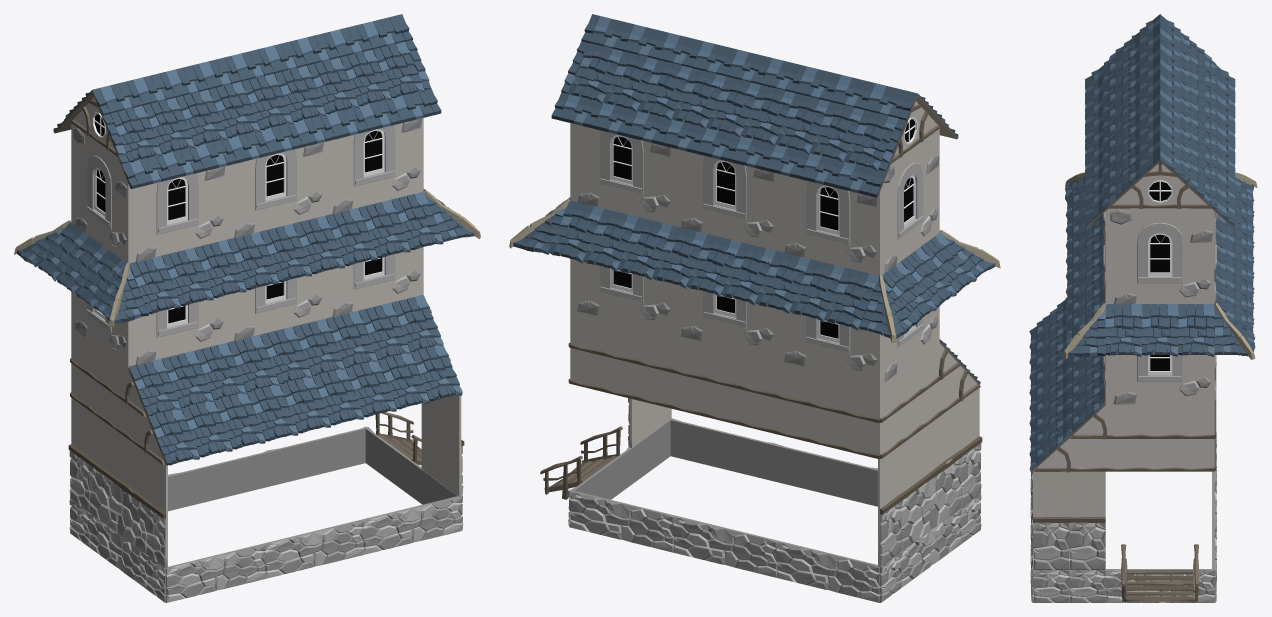
The model's file is HOUSE_18_PARTS.fbx.
3 renders of one model, left to right at view 1: azimuth 30°, elevation 25°; view 2: azimuth 150°, elevation 25°; view 3: azimuth 270°, elevation 25°, orthographic. The views are drawn at different scales.
Parts seen in each view (by area): view 1: WINDOW_07_11, WINDOW_07_12, WINDOW_07_13, WALL_01_14, WINDOW_07_18, WINDOW_07_6, WINDOW_07_5, WINDOW_07_4, FOUNDATION_01_2, FOUNDATION_01_4, FOUNDATION_01_3, FOUNDATION_01_7 (+78 smaller); view 2: WINDOW_07_17, WINDOW_07_16, WINDOW_07_15, WALL_01_14, WINDOW_07_18, WINDOW_07_8, WINDOW_07_7, WINDOW_07_9, FOUNDATION_01_8, FOUNDATION_01_7, FOUNDATION_01_6, FOUNDATION_01_3 (+79 smaller); view 3: WINDOW_07_14, WINDOW_07_10, WALL_04_21, WALL_04_22, STAIRS_01_2, FOUNDATION_01_5, ROOF_base_104, ROOF_base_105, ROOF_base_103, ROOF_CORNER_OUT_7, ROOF_CORNER_OUT_6, ROOF_TRIANGLE_WOOD_14 (+78 smaller).
Part boxes in pixels (x1,y1,x2,y2): WINDOW_07_11: (128,166,226,263); WINDOW_07_12: (226,142,324,240); WINDOW_07_13: (325,118,423,216); WALL_01_14: (87,411,147,553); WINDOW_07_18: (71,123,130,262); WINDOW_07_6: (325,247,423,319); WINDOW_07_5: (226,271,324,343); WINDOW_07_4: (128,295,226,367); FOUNDATION_01_2: (166,543,265,602); FOUNDATION_01_4: (362,496,462,554); FOUNDATION_01_3: (263,519,363,578); FOUNDATION_01_7: (169,450,269,510); WINDOW_07_17: (776,173,881,275); WINDOW_07_16: (673,148,776,251); WINDOW_07_15: (570,123,673,225); WALL_01_14: (900,402,962,551); WINDOW_07_18: (878,129,939,275); WINDOW_07_8: (673,284,776,361); WINDOW_07_7: (570,259,673,336); WINDOW_07_9: (776,309,879,385); FOUNDATION_01_8: (775,540,880,602); FOUNDATION_01_7: (672,515,777,577); FOUNDATION_01_6: (569,490,674,552); FOUNDATION_01_3: (771,443,876,505); WINDOW_07_14: (1105,208,1214,305); WINDOW_07_10: (1105,355,1212,405); WALL_04_21: (1069,471,1105,569); WALL_04_22: (1033,471,1069,569); STAIRS_01_2: (1121,544,1199,602); FOUNDATION_01_5: (1105,569,1214,602); ROOF_base_104: (1141,304,1178,356); ROOF_base_105: (1178,304,1214,356); ROOF_base_103: (1105,304,1141,356); ROOF_CORNER_OUT_7: (1214,303,1255,359); ROOF_CORNER_OUT_6: (1062,303,1106,358); ROOF_TRIANGLE_WOOD_14: (1142,405,1178,438).
Bounding box in the file's own units: 1137 × 1359 × 629.
